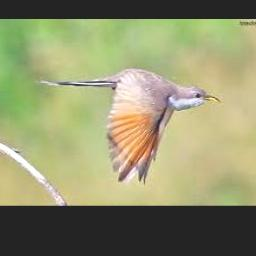Cuckoo: (35, 68, 221, 185)
